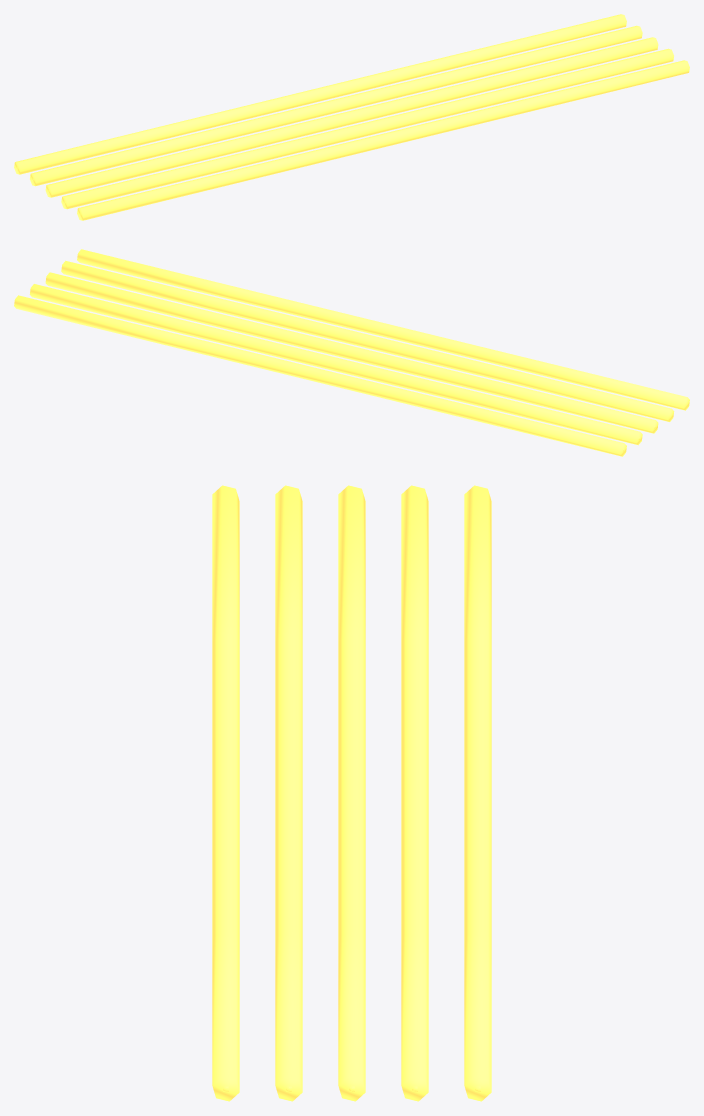
Rendered from city_staff_4.glb.
3 views of the same model, one above another, from view 1: azimuth 30°, elevation 25°; view 2: azimuth 150°, elevation 25°; view 3: azimuth 270°, elevation 25° (orthographic). The views are drawn at different scales.
Parts seen in each view (by area): view 1: CityStaff4_Line0_Halo, CityStaff4_Line2_Halo, CityStaff4_Line4_Halo, CityStaff4_Line3_Halo, CityStaff4_Line1_Halo; view 2: CityStaff4_Line0_Halo, CityStaff4_Line4_Halo, CityStaff4_Line2_Halo, CityStaff4_Line1_Halo, CityStaff4_Line3_Halo; view 3: CityStaff4_Line3_Halo, CityStaff4_Line2_Halo, CityStaff4_Line1_Halo, CityStaff4_Line4_Halo, CityStaff4_Line0_Halo.
Part boxes in pixels (left/top/right/bottom): CityStaff4_Line0_Halo: left=77, top=60, right=689, bottom=220; CityStaff4_Line2_Halo: left=45, top=37, right=658, bottom=197; CityStaff4_Line4_Halo: left=14, top=14, right=626, bottom=174; CityStaff4_Line3_Halo: left=30, top=25, right=642, bottom=186; CityStaff4_Line1_Halo: left=61, top=48, right=673, bottom=209; CityStaff4_Line0_Halo: left=77, top=249, right=689, bottom=410; CityStaff4_Line4_Halo: left=14, top=295, right=626, bottom=456; CityStaff4_Line2_Halo: left=45, top=272, right=658, bottom=433; CityStaff4_Line1_Halo: left=61, top=260, right=674, bottom=421; CityStaff4_Line3_Halo: left=29, top=284, right=642, bottom=445; CityStaff4_Line3_Halo: left=401, top=485, right=428, bottom=1101; CityStaff4_Line2_Halo: left=338, top=485, right=365, bottom=1101; CityStaff4_Line1_Halo: left=275, top=485, right=302, bottom=1101; CityStaff4_Line4_Halo: left=464, top=485, right=491, bottom=1101; CityStaff4_Line0_Halo: left=212, top=485, right=239, bottom=1101.
Bounding box in the file's own units: 4 × 0.0773 × 0.7973.
